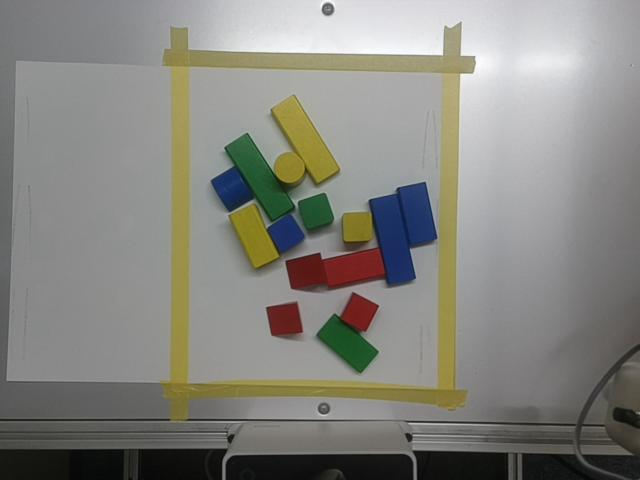blue_cube: (267, 214, 304, 252)
blue_longrect: (370, 194, 415, 284)
blue_rect: (397, 182, 436, 246)
cylinder: (273, 152, 305, 186)
green_cube: (298, 193, 333, 230)
green_longrect: (225, 134, 293, 220)
green_rect: (317, 314, 378, 372)
half_cylinder: (211, 167, 253, 211)
red_cube: (340, 293, 378, 331)
red_rect: (324, 248, 384, 286)
triangle: (286, 253, 326, 289), (266, 302, 302, 335)
yellow_cube: (343, 212, 372, 243)
yellow_longrect: (271, 95, 339, 183)
yelow_rect: (230, 204, 280, 268)
